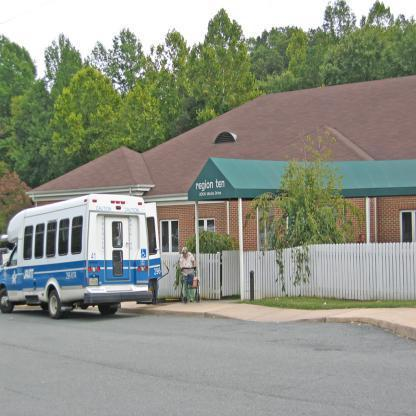ambulance_off: (0, 194, 161, 312)
